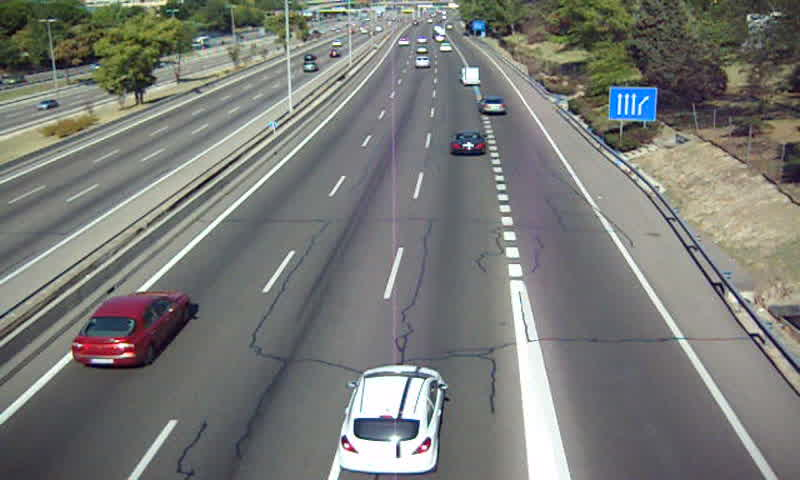car: (342, 365, 444, 473), (72, 292, 191, 366), (449, 132, 486, 156), (479, 97, 506, 116), (414, 55, 430, 68)
van: (461, 66, 479, 84)
